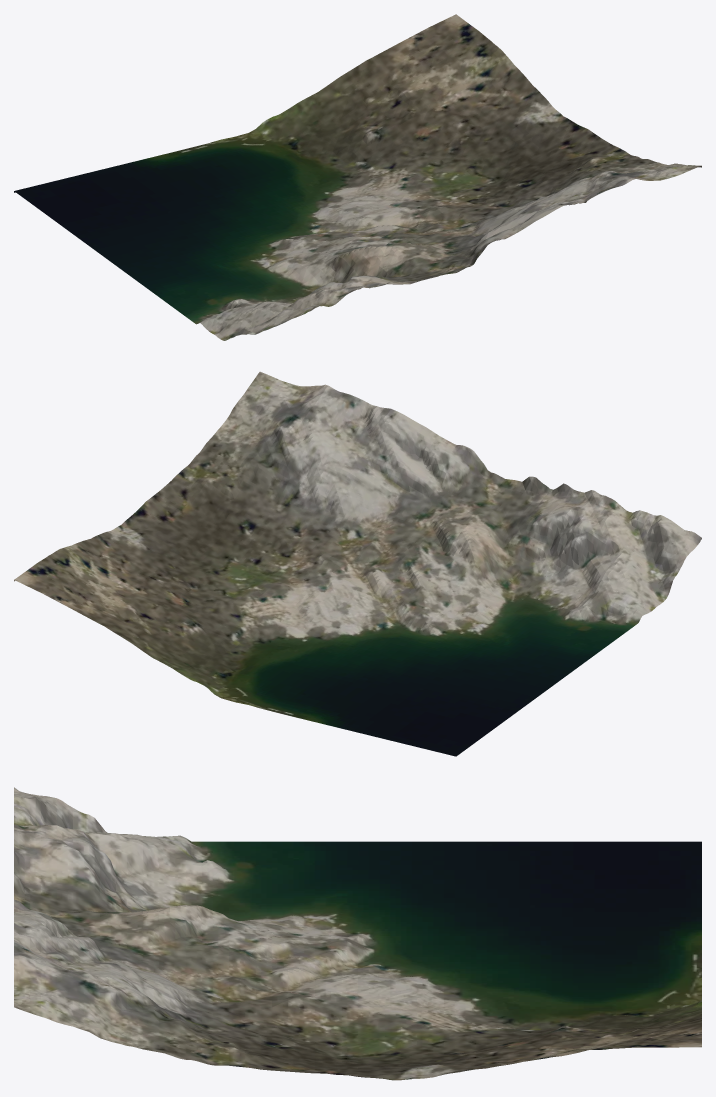
The picture shows the model from 3 angles, top to bottom: view 1: azimuth 30°, elevation 25°; view 2: azimuth 150°, elevation 25°; view 3: azimuth 270°, elevation 25°; orthographic projection. The views are drawn at different scales.
Bounding box in the file's own units: 250 × 55.15 × 241.
Materials: 1 (1 with a texture image).
